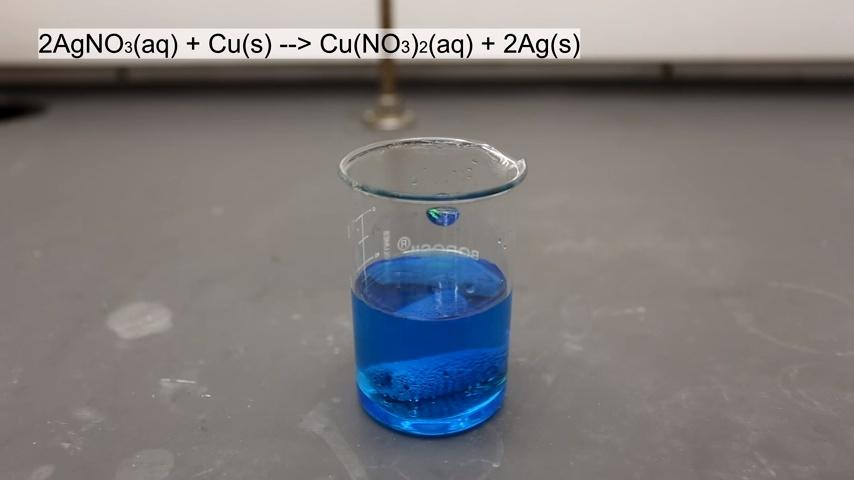Beaker: (330, 140, 531, 433)
